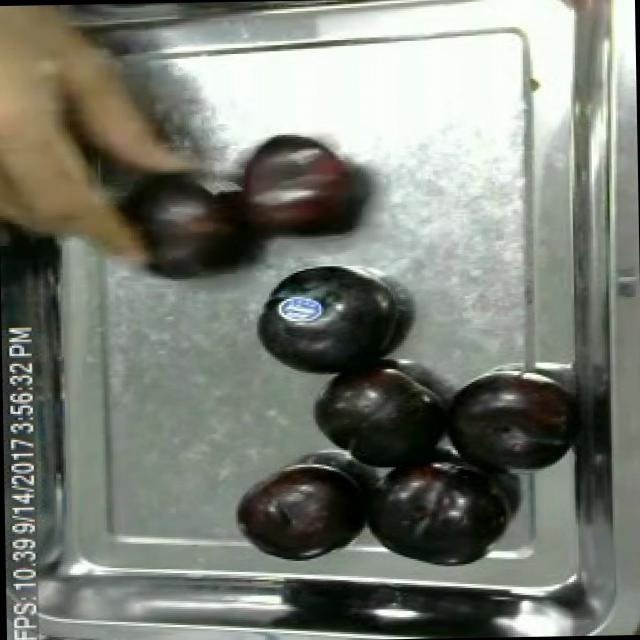Fruit: (250, 260, 406, 386), (220, 129, 376, 250), (301, 354, 449, 481), (0, 103, 121, 255), (357, 458, 511, 574), (438, 364, 582, 476), (126, 167, 258, 287), (228, 458, 372, 564)
